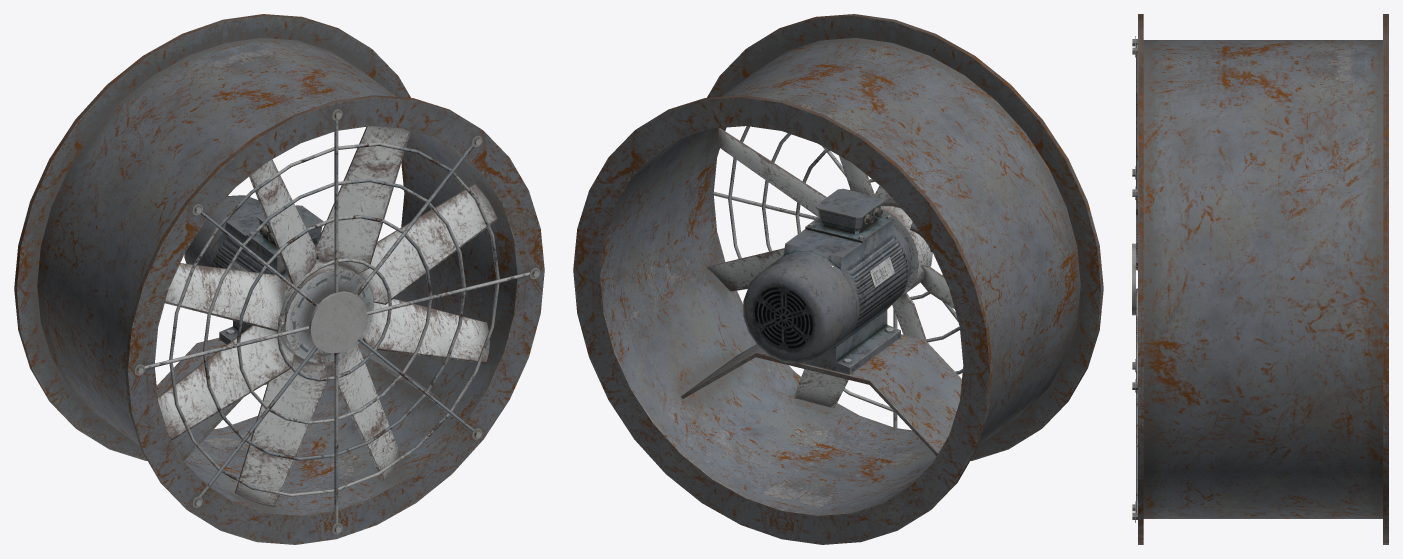
The model's file is FanBig01Motor01.FBX.
3 views of the same model, side by side, from view 1: azimuth 30°, elevation 25°; view 2: azimuth 150°, elevation 25°; view 3: azimuth 270°, elevation 25° (orthographic). The views are drawn at different scales.
Visible parts, largest first — view 1: FanBig01Motor01; view 2: FanBig01Motor01; view 3: FanBig01Motor01.
Part boxes in pixels (x1=…): FanBig01Motor01: x1=14, y1=14, x2=544, y2=544; FanBig01Motor01: x1=573, y1=14, x2=1103, y2=544; FanBig01Motor01: x1=1132, y1=14, x2=1388, y2=544.
Size of the model in its own units: 223 by 223 by 108.
